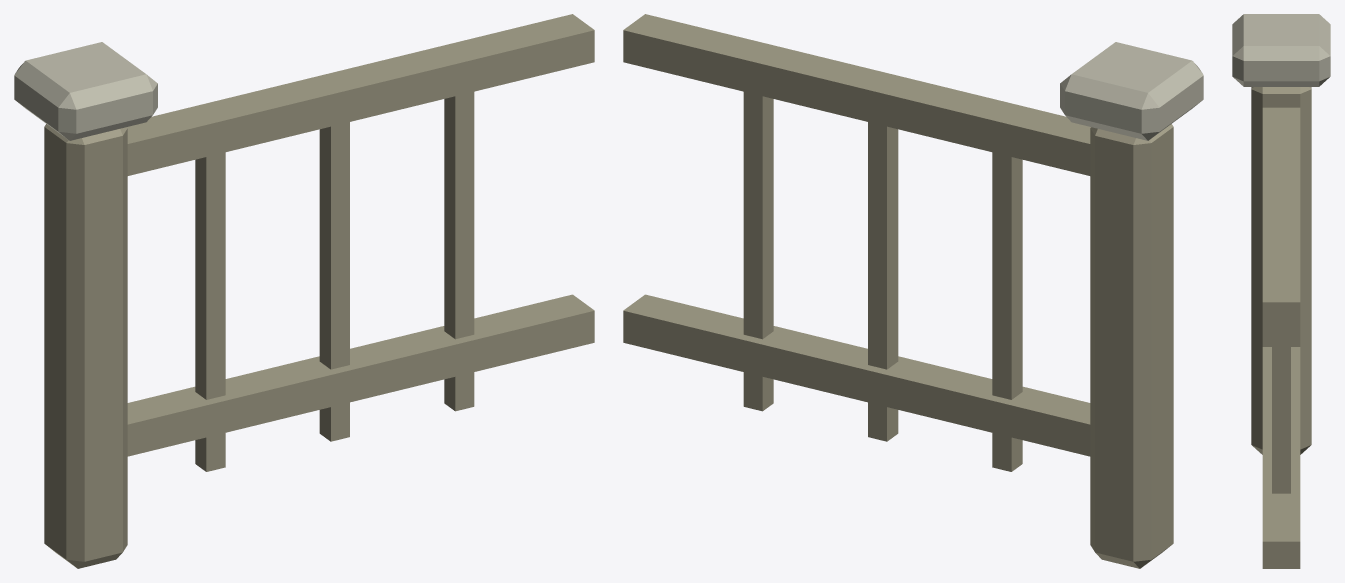
File: railing_1_3.glb
3 views of the same model, side by side, from view 1: azimuth 30°, elevation 25°; view 2: azimuth 150°, elevation 25°; view 3: azimuth 270°, elevation 25° (orthographic). The views are drawn at different scales.
Visible parts, largest first — view 1: Railing_1_3; view 2: Railing_1_3; view 3: Railing_1_3.
Part boxes in pixels (x1,y1,x2,y2): Railing_1_3: (14,14,594,568); Railing_1_3: (623,14,1203,568); Railing_1_3: (1232,14,1330,568).
Size of what is drawn, in the model's own units: 1.43 by 1.22 by 0.26.
